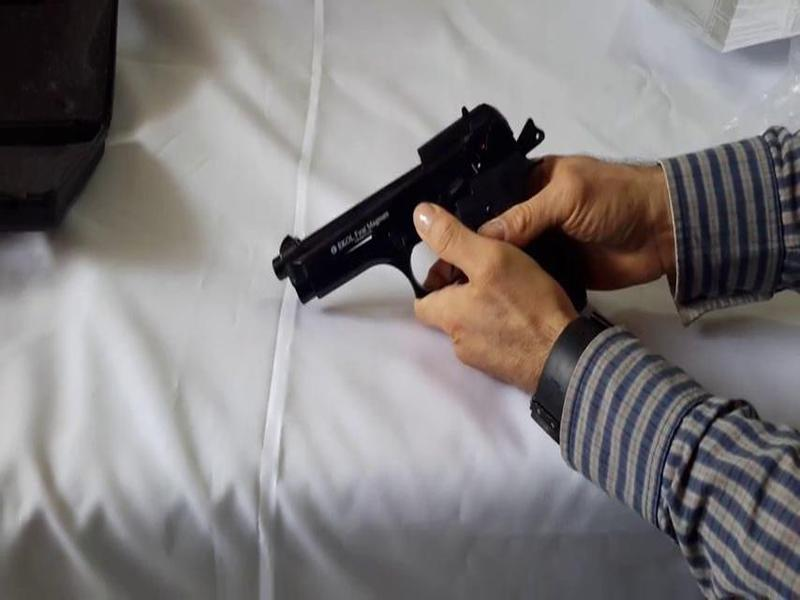Pistola: (276, 104, 587, 341)
